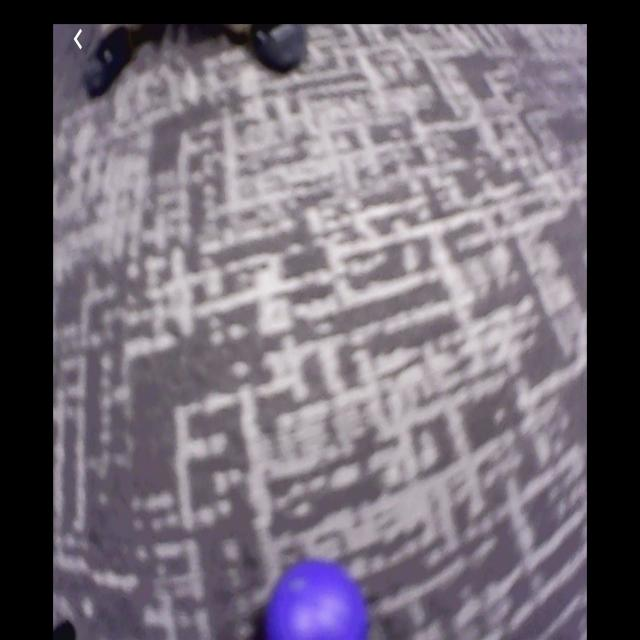ball: (265, 561, 371, 640)
